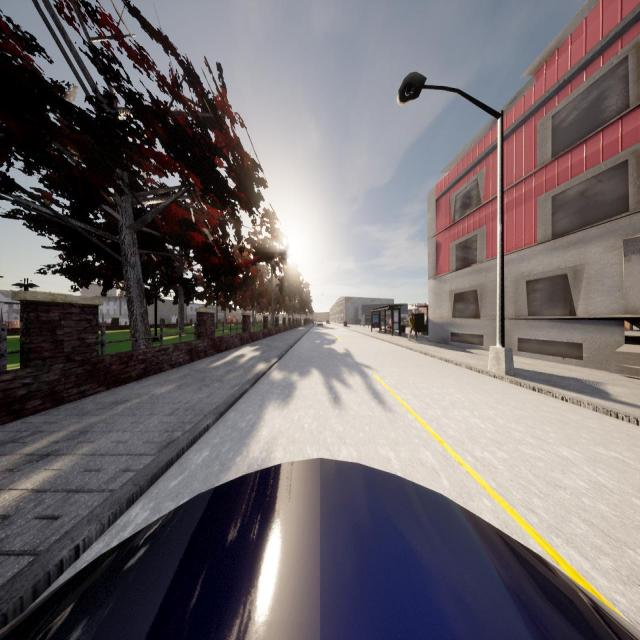Pedestrian: (407, 312, 418, 342)
Vehicle: (0, 460, 640, 640), (317, 320, 323, 327), (326, 320, 330, 324)
